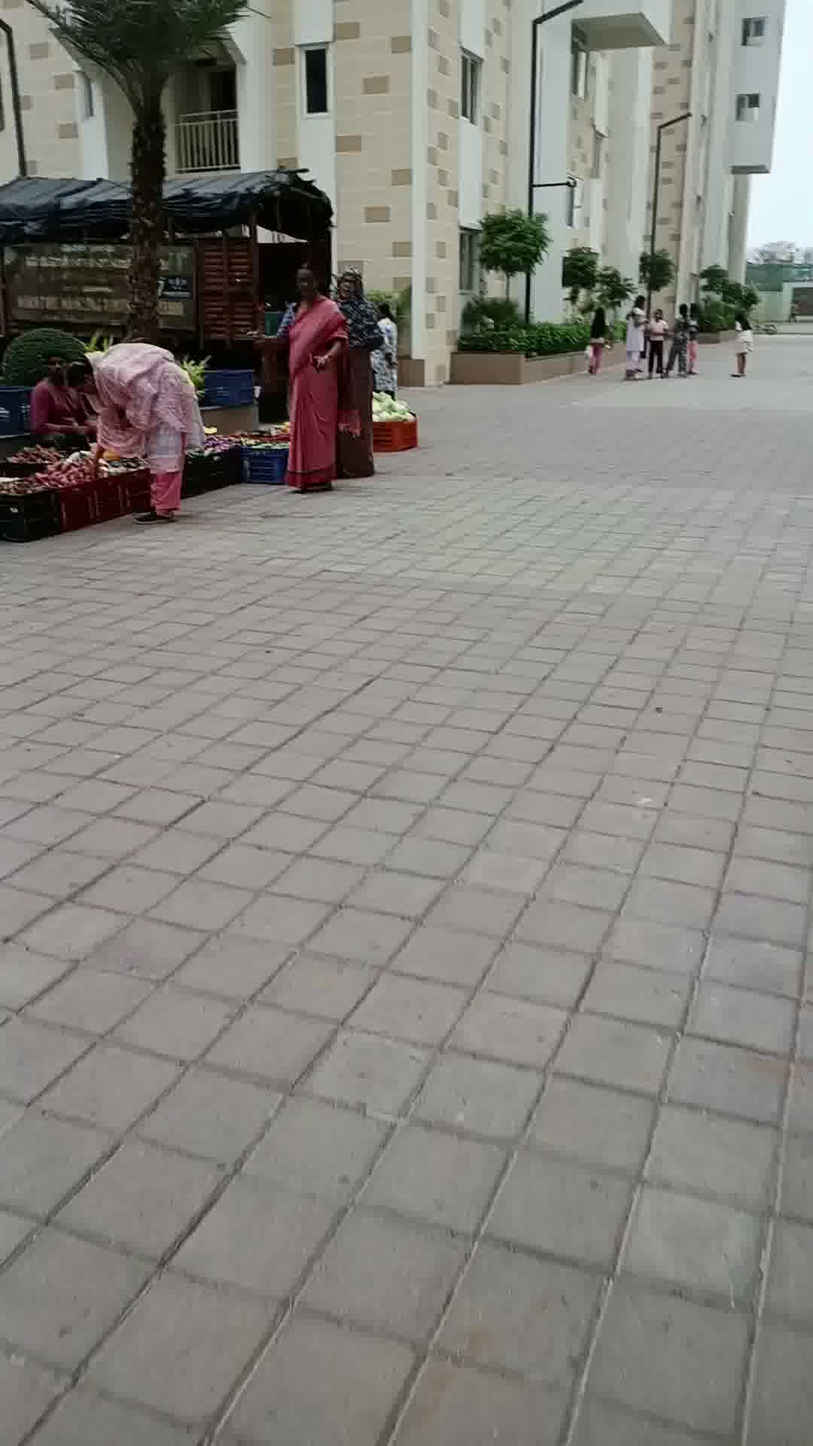person: (62, 334, 206, 545), (282, 234, 350, 507), (330, 240, 374, 515), (12, 326, 94, 453), (663, 288, 705, 397), (580, 288, 616, 403), (629, 280, 655, 392), (727, 294, 751, 407), (643, 288, 669, 384)
tree: (22, 0, 272, 366), (460, 192, 552, 352), (631, 218, 681, 340), (586, 236, 639, 344), (562, 224, 606, 342)
